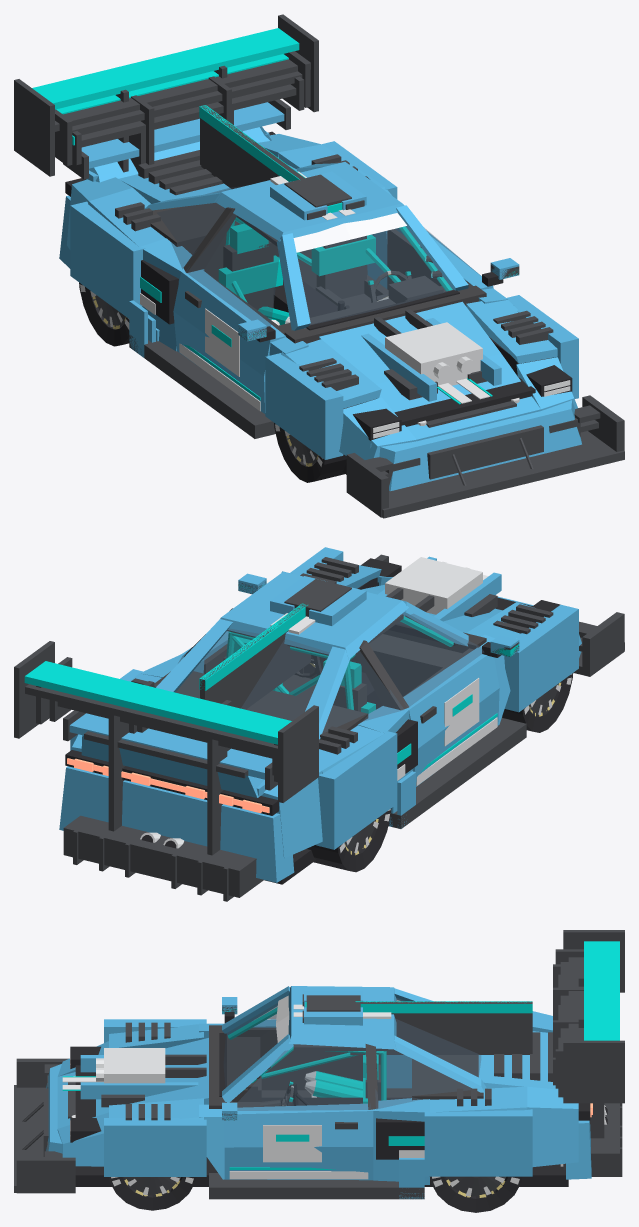
The model's file is RacerCoupe_01.fbx.
3 views of the same model, one above another, from view 1: azimuth 30°, elevation 25°; view 2: azimuth 150°, elevation 25°; view 3: azimuth 270°, elevation 25° (orthographic). The views are drawn at different scales.
Visible parts, largest first — view 1: mod_fender_2_widebody, mod_spoiler_5_timeattack, roof_cabin, glass_windshield, mod_bumper_front_0_stock, mod_hood_0_stock, glass_side_right, mod_bumper_front_4_timeattack, mod_spoiler_4_swanneck, interior_cabin, door_right, fender_rear_right (+31 smaller); view 2: mod_spoiler_5_timeattack, mod_fender_2_widebody, roof_cabin, mod_bumper_rear_0_stock, glass_side_right, mod_bumper_rear_3_timeattack, glass_rear, door_right, mod_roof_scoop_3_sharkfin, fender_rear_right, interior_cabin, mod_spoiler_1_ducktail (+30 smaller); view 3: mod_fender_2_widebody, mod_spoiler_5_timeattack, glass_side_left, roof_cabin, fender_rear_left, door_left, mod_roof_scoop_3_sharkfin, interior_cabin, mod_bumper_front_4_timeattack, mod_skirts_3_wide_left, mod_hood_0_stock, fender_front_left (+35 smaller).
Boxes of the visible parts, x1,y1,x2,y2 form: mod_fender_2_widebody: [70, 141, 578, 459]; mod_spoiler_5_timeattack: [14, 14, 318, 176]; roof_cabin: [144, 162, 468, 330]; glass_windshield: [297, 226, 459, 330]; mod_bumper_front_0_stock: [370, 400, 599, 492]; mod_hood_0_stock: [319, 301, 540, 441]; glass_side_right: [157, 203, 279, 326]; mod_bumper_front_4_timeattack: [346, 395, 624, 518]; mod_spoiler_4_swanneck: [55, 51, 310, 165]; interior_cabin: [143, 203, 486, 343]; door_right: [173, 269, 286, 413]; fender_rear_right: [67, 177, 204, 351]; mod_spoiler_5_timeattack: [14, 641, 318, 855]; mod_fender_2_widebody: [70, 547, 578, 849]; roof_cabin: [156, 571, 468, 739]; mod_bumper_rear_0_stock: [59, 766, 294, 886]; glass_side_right: [322, 612, 483, 732]; mod_bumper_rear_3_timeattack: [63, 822, 254, 901]; glass_rear: [176, 628, 329, 720]; door_right: [403, 647, 499, 786]; mod_roof_scoop_3_sharkfin: [199, 602, 310, 709]; fender_rear_right: [254, 706, 417, 858]; interior_cabin: [155, 620, 486, 741]; mod_spoiler_1_ducktail: [81, 731, 263, 797]; mod_fender_2_widebody: [104, 1019, 532, 1176]; mod_spoiler_5_timeattack: [563, 930, 624, 1138]; glass_side_left: [237, 1044, 470, 1110]; roof_cabin: [222, 986, 486, 1109]; fender_rear_left: [373, 1086, 578, 1184]; door_left: [224, 1103, 373, 1180]; mod_roof_scoop_3_sharkfin: [350, 1001, 532, 1054]; interior_cabin: [209, 1025, 483, 1172]; mod_bumper_front_4_timeattack: [14, 1058, 75, 1193]; mod_skirts_3_wide_left: [209, 1158, 424, 1199]; mod_hood_0_stock: [57, 1038, 208, 1128]; fender_front_left: [57, 1098, 224, 1179].
Bounding box in the file's own units: 2.1 × 1.48 × 4.76.
